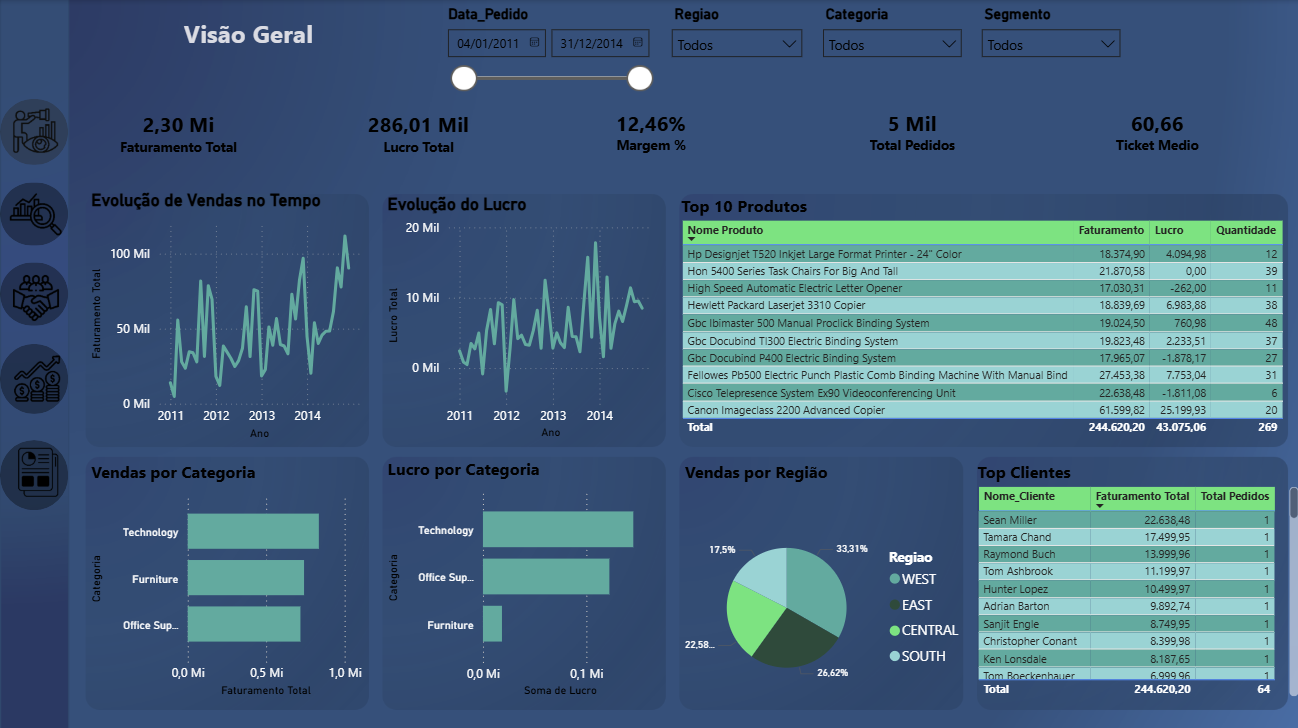

The dashboard page shown, as its layout file describes it:
{"tool":"powerbi","page":{"name":"Visão Geral","canvas":[1280,720],"ordinal":0},"visuals":[{"type":"cardVisual","fields":{"Data":["Medidas.Faturamento Total"]},"box":[54.9,89.2,240.1,81],"z":0},{"type":"cardVisual","fields":{"Data":["Medidas.Lucro Total"]},"box":[290.9,89.2,240.1,81],"z":1000},{"type":"cardVisual","fields":{"Data":["Medidas.Margem %"]},"box":[518.7,87.8,240.1,81],"z":2000},{"type":"cardVisual","fields":{"Data":["Medidas.Total Pedidos"]},"box":[775.3,87.8,240.1,81],"z":3000},{"type":"cardVisual","fields":{"Data":["Medidas.Ticket Medio"]},"box":[1015.4,87.8,240.1,81],"z":4000},{"type":"lineChart","title":"Evolução de Vendas no Tempo","fields":{"Y":["Medidas.Faturamento Total"],"Category":["dim_data.Data_Pedido.Variation.Hierarquia de datas.Ano","dim_data.Data_Pedido.Variation.Hierarquia de datas.Mês"]},"box":[85.1,186.6,275.8,249.7],"z":5000},{"type":"barChart","title":"Vendas por Categoria","fields":{"Category":["dim_produto.Categoria"],"Y":["Medidas.Faturamento Total"]},"box":[85.1,451.5,275.8,237.4],"z":6000},{"type":"barChart","title":"Lucro por Categoria","fields":{"Category":["dim_produto.Categoria"],"Y":["Sum(fato_vendas.Lucro)"]},"box":[376,448.7,273.1,240.1],"z":7000},{"type":"pieChart","title":"Vendas por Região","fields":{"Category":["dim_local.Regiao"],"Y":["Medidas.Faturamento Total"]},"box":[666.9,451.5,286.8,269],"z":8000},{"type":"tableEx","title":"Top 10 Produtos","fields":{"Values":["dim_produto.Nome_Produto","Medidas.Faturamento Total","Medidas.Lucro Total","Medidas.Qtd Vendida"]},"box":[664.2,190.7,616.1,258],"z":9000},{"type":"lineChart","title":"Evolução do Lucro","fields":{"Category":["dim_data.Data_Pedido.Variation.Hierarquia de datas.Ano","dim_data.Data_Pedido.Variation.Hierarquia de datas.Mês"],"Y":["Medidas.Lucro Total"]},"box":[376,190.7,273.1,245.6],"z":10000},{"type":"tableEx","title":"Top Clientes","fields":{"Values":["dim_cliente.Nome_Cliente","Medidas.Faturamento Total","Medidas.Total Pedidos"]},"box":[955.1,451.5,325.2,237.4],"z":11000},{"type":"slicer","fields":{"Values":["dim_data.Data_Pedido"]},"box":[426.8,0,222.3,156.4],"z":12000},{"type":"slicer","fields":{"Values":["dim_local.Regiao"]},"box":[649.1,0,148.2,71.4],"z":13000},{"type":"slicer","fields":{"Values":["dim_produto.Categoria"]},"box":[797.3,0,156.4,65.9],"z":14000},{"type":"slicer","fields":{"Values":["dim_cliente.Segmento"]},"box":[953.7,0,156.4,65.9],"z":15000},{"type":"textbox","box":[175.6,12.3,171.5,65.9],"z":16000},{"type":"pageNavigator","box":[0,97.4,67.2,65.9],"z":17000},{"type":"pageNavigator","box":[0,179,67,62],"z":18000},{"type":"pageNavigator","box":[0,257.1,67.1,62.9],"z":19000},{"type":"pageNavigator","box":[0,337,67,69],"z":20000},{"type":"pageNavigator","box":[0,431.4,67.9,69.3],"z":21000}]}

Visuals, with their boxes on the page's 1280x720 design canvas (x1, y1, x2, y2). These are canvas units, not pixel positions in the 1298x728 screenshot, which may show the page scaled, cropped or inside an application window:
cardVisual - Medidas.Faturamento Total: Rect(55, 89, 295, 170)
cardVisual - Medidas.Lucro Total: Rect(291, 89, 531, 170)
cardVisual - Medidas.Margem %: Rect(519, 88, 759, 169)
cardVisual - Medidas.Total Pedidos: Rect(775, 88, 1015, 169)
cardVisual - Medidas.Ticket Medio: Rect(1015, 88, 1256, 169)
"Evolução de Vendas no Tempo" lineChart: Rect(85, 187, 361, 436)
"Vendas por Categoria" barChart: Rect(85, 452, 361, 689)
"Lucro por Categoria" barChart: Rect(376, 449, 649, 689)
"Vendas por Região" pieChart: Rect(667, 452, 954, 720)
"Top 10 Produtos" tableEx: Rect(664, 191, 1280, 449)
"Evolução do Lucro" lineChart: Rect(376, 191, 649, 436)
"Top Clientes" tableEx: Rect(955, 452, 1280, 689)
slicer - dim_data.Data_Pedido: Rect(427, 0, 649, 156)
slicer - dim_local.Regiao: Rect(649, 0, 797, 71)
slicer - dim_produto.Categoria: Rect(797, 0, 954, 66)
slicer - dim_cliente.Segmento: Rect(954, 0, 1110, 66)
textbox: Rect(176, 12, 347, 78)
pageNavigator: Rect(0, 97, 67, 163)
pageNavigator: Rect(0, 179, 67, 241)
pageNavigator: Rect(0, 257, 67, 320)
pageNavigator: Rect(0, 337, 67, 406)
pageNavigator: Rect(0, 431, 68, 501)
